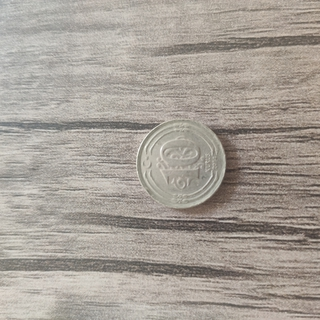10KURUS: (134, 117, 227, 211)
